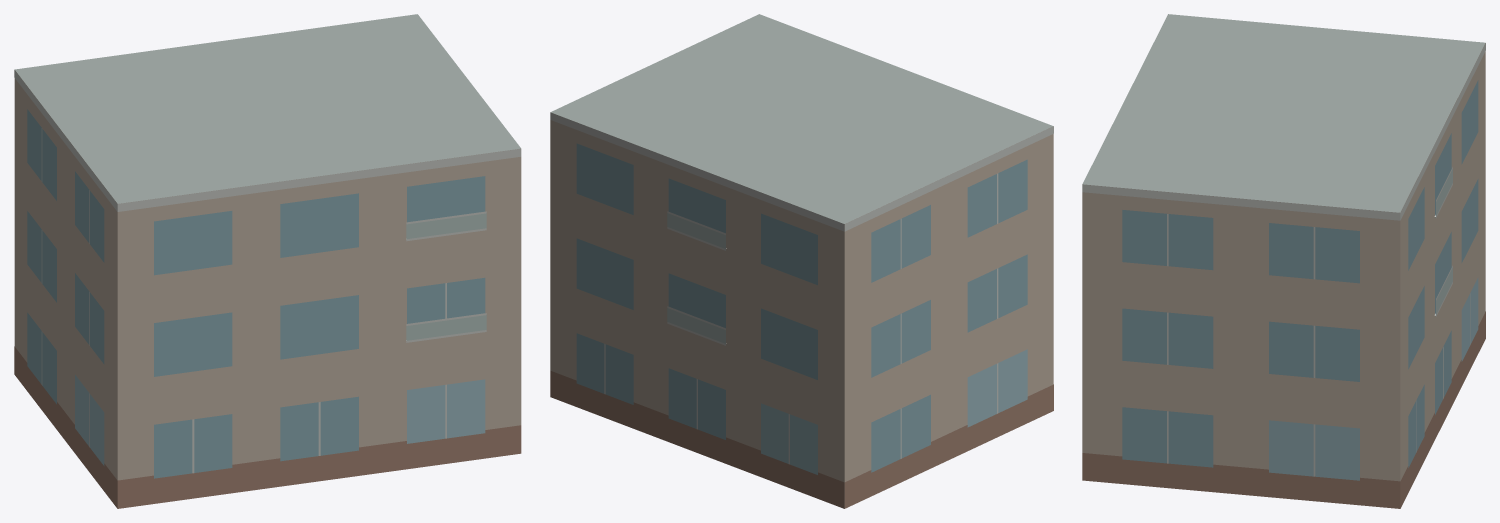
Rendered from residential-bc3dc120-27ba-464c-82c4-6015eae7fa63.glb.
3 views of the same model, side by side, from view 1: azimuth 30°, elevation 25°; view 2: azimuth 150°, elevation 25°; view 3: azimuth 270°, elevation 25° (orthographic). The views are drawn at different scales.
Parts seen in each view (by area): view 1: residential-bc3dc120-27ba-464c-82c4-6015eae7fa63.tmp; view 2: residential-bc3dc120-27ba-464c-82c4-6015eae7fa63.tmp; view 3: residential-bc3dc120-27ba-464c-82c4-6015eae7fa63.tmp.
Part boxes in pixels (x1,y1,x2,y2): residential-bc3dc120-27ba-464c-82c4-6015eae7fa63.tmp: [14, 14, 521, 508]; residential-bc3dc120-27ba-464c-82c4-6015eae7fa63.tmp: [550, 14, 1053, 508]; residential-bc3dc120-27ba-464c-82c4-6015eae7fa63.tmp: [1082, 14, 1485, 508].
Size of the model in its own units: 13.19 by 9.15 by 11.31.
